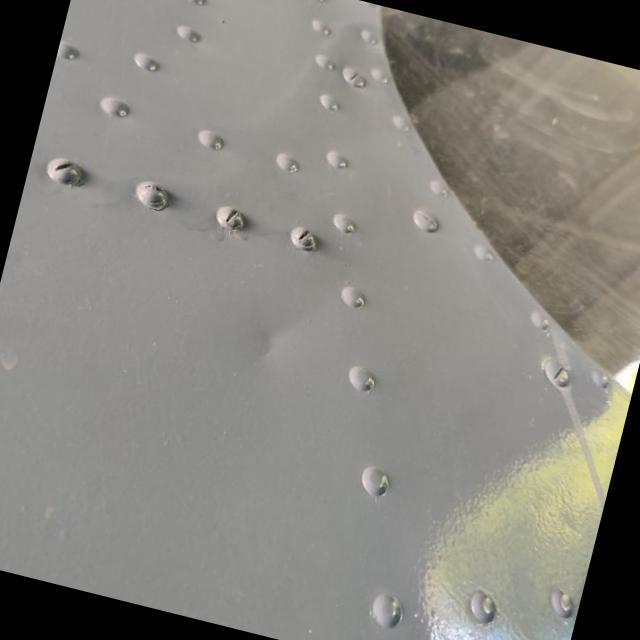Dent: (230, 308, 306, 386)
